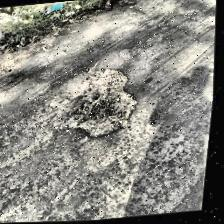pothole: (53, 60, 149, 144)
